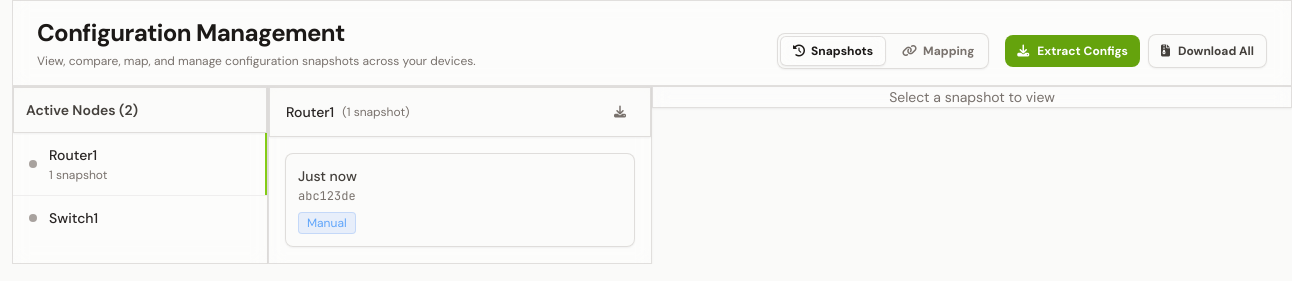
ConfigsView › Snapshot deletion › shows delete button on hover
// Hover the snapshot card to reveal delete button
Hover over the element showing "Just now abc123de Manual": (460, 200) [285, 153, 635, 247]
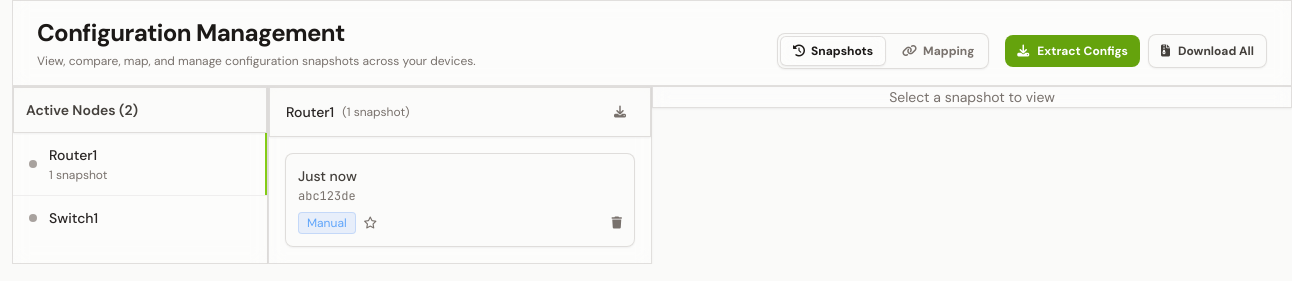
Now the icon with class "fa-trash" is shown, box [612, 217, 622, 229]
